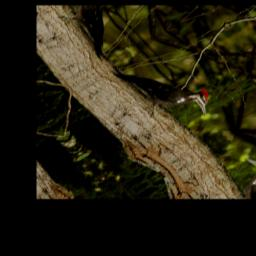Woodpecker: (105, 40, 223, 140)
